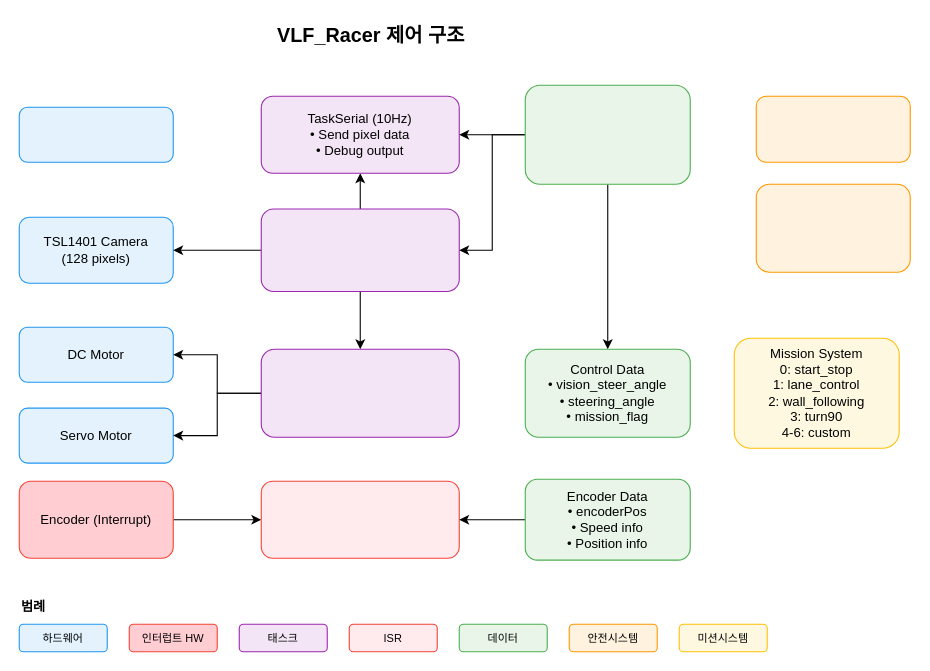
The diagram is 930 pixels wide and 671 high, and some of its shapes have lost their labels. Here are the shapes that lost their labels. From the top down, the centre of each, then its label:
point 95,134: Arduino Uno + FreeRTOS
point 607,134: Pixel Data • Pixel[128] • PixelBuffer[128] • threshold_data[128]
point 832,128: Watchdog Timer (2s timeout)
point 832,227: Semaphores • xSerialSemaphore • xDataSemaphore • xSteeringSemaphore
point 359,250: TaskCamera (25Hz) • Read TSL1401 • Line processing • Calculate steering
point 359,392: TaskControl (50Hz) • Mission logic • Motor control • Servo control
point 359,519: encoderB() ISR • Count pulses • Update encoderPos
